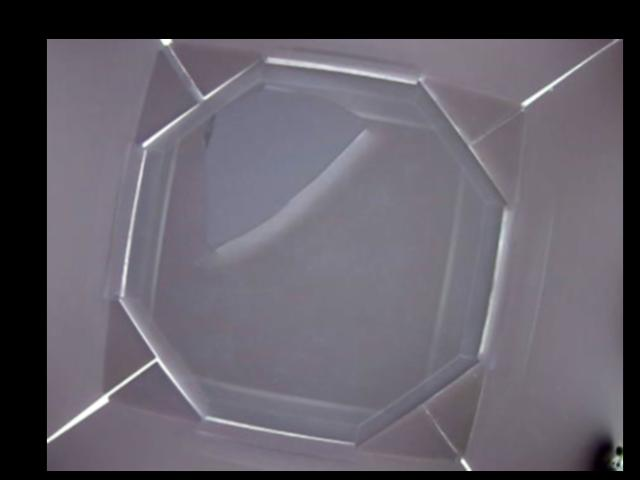China: (191, 84, 363, 250)
